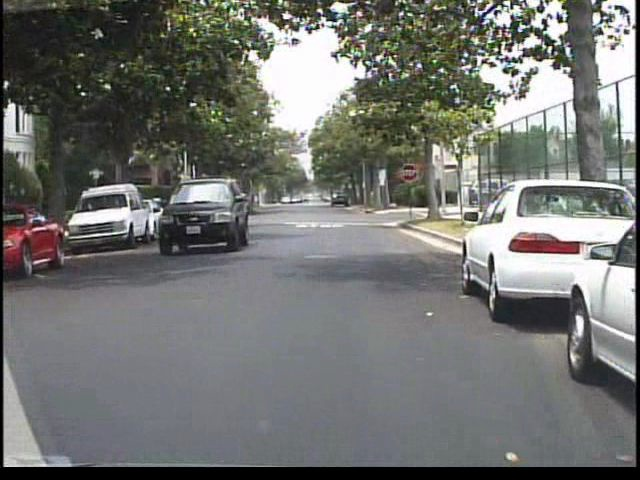person: (246, 182, 266, 224)
